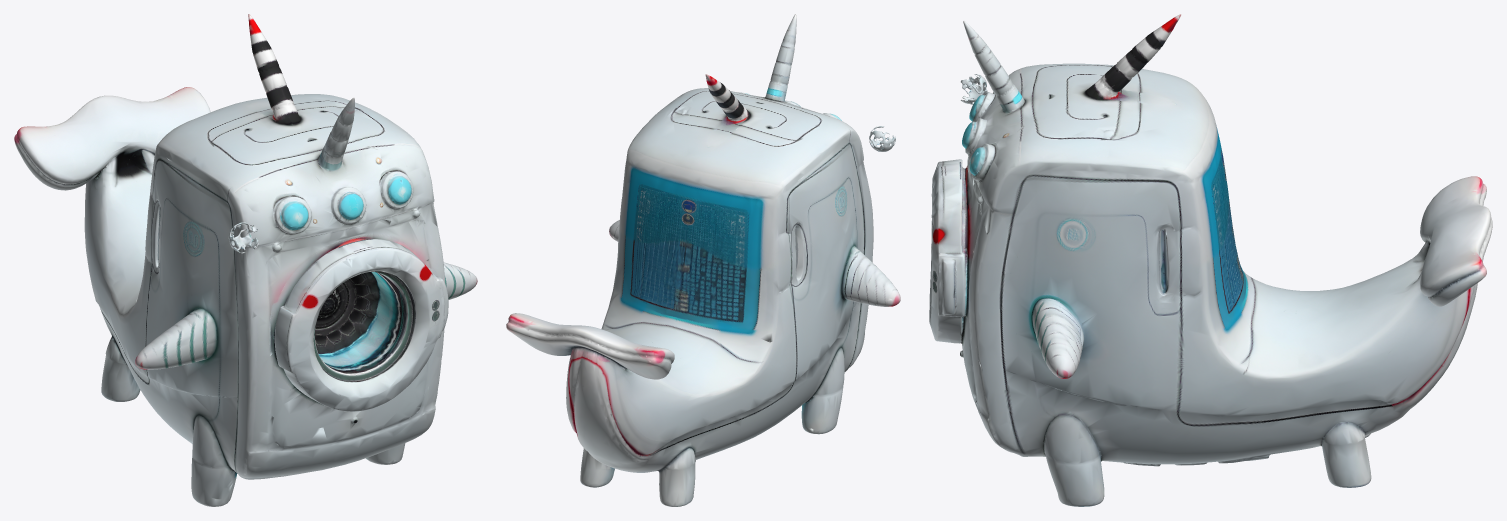
File: washing-machine-narwhal-22130.glb
3 renders of one model, left to right at view 1: azimuth 30°, elevation 25°; view 2: azimuth 150°, elevation 25°; view 3: azimuth 270°, elevation 25°, orthographic. The views are drawn at different scales.
Bounding box in the file's own units: 1.38 × 1.66 × 1.91.
1 material, 1 textured.
